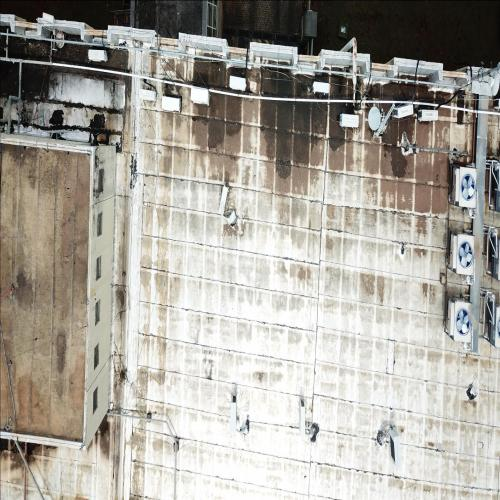conde: (446, 230, 479, 283), (451, 159, 480, 212), (445, 298, 477, 345), (486, 296, 500, 354), (487, 230, 500, 284), (489, 158, 500, 221), (390, 424, 404, 472), (191, 85, 212, 108), (219, 182, 232, 219), (230, 394, 241, 436), (298, 397, 308, 441), (394, 101, 415, 121), (163, 95, 184, 115), (339, 111, 360, 130), (418, 107, 441, 124), (229, 74, 248, 94), (88, 48, 109, 65), (140, 88, 160, 104), (313, 81, 331, 97), (493, 99, 500, 114)
